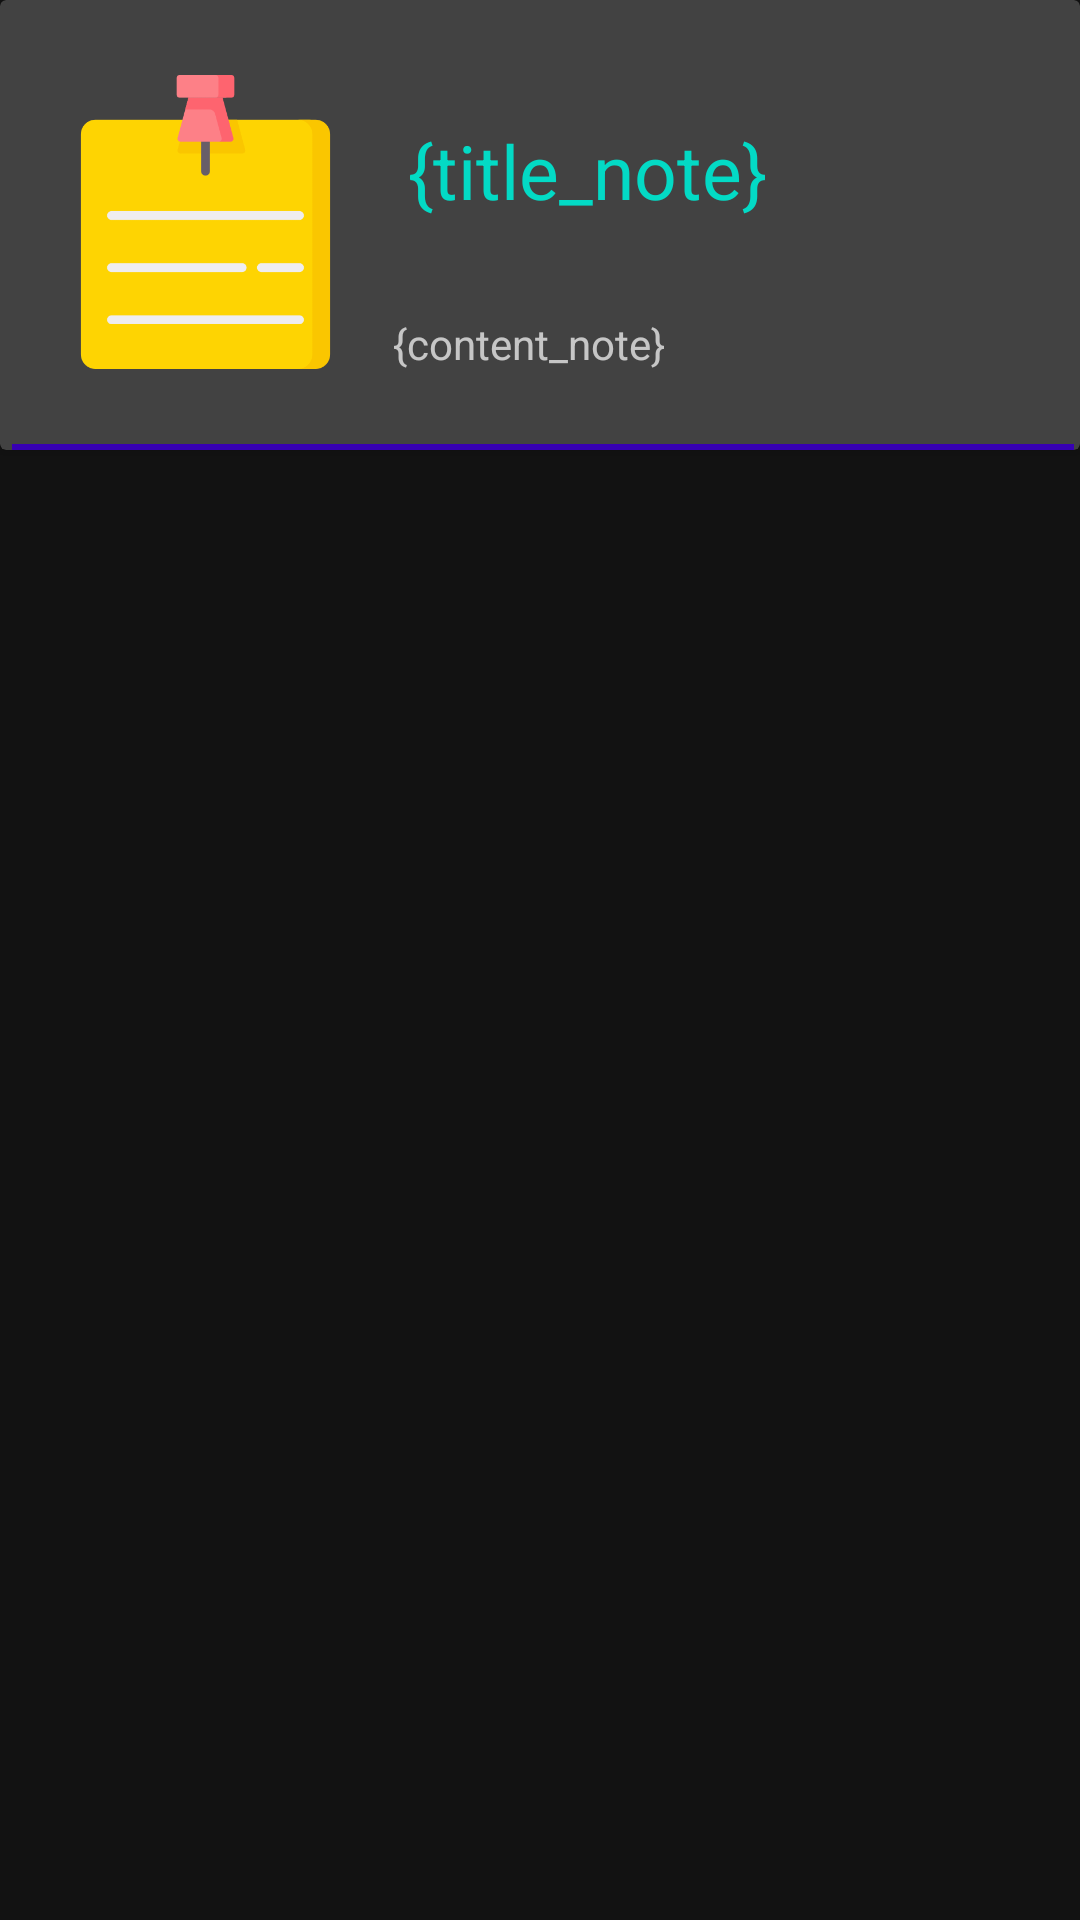

Locate icon controls on the screen. Image size 1080px x 1920px, boxes as (x1, y1, x2, y2).
notes: (81, 75, 330, 369)
